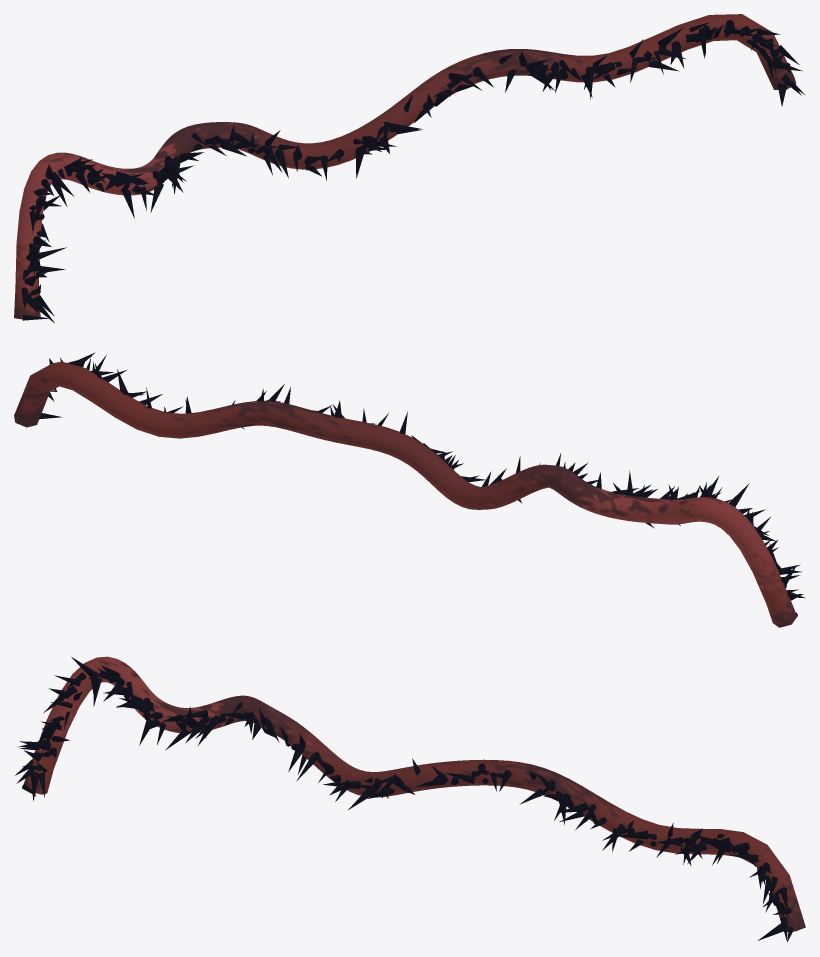
The model's file is Big-Thorns-Assets-right.glb.
The picture shows the model from 3 angles, top to bottom: view 1: azimuth 30°, elevation 25°; view 2: azimuth 150°, elevation 25°; view 3: azimuth 330°, elevation 25°; orthographic projection. The views are drawn at different scales.
Parts seen in each view (by area): view 1: NurbsPath; view 2: NurbsPath; view 3: NurbsPath.
Part boxes in pixels (bbox=[...]): NurbsPath: bbox=[14, 14, 804, 323]; NurbsPath: bbox=[14, 352, 805, 627]; NurbsPath: bbox=[15, 656, 805, 941].
Bounding box in the file's own units: 328 × 56.84 × 39.06.
Materials: 2 (2 with a texture image).
